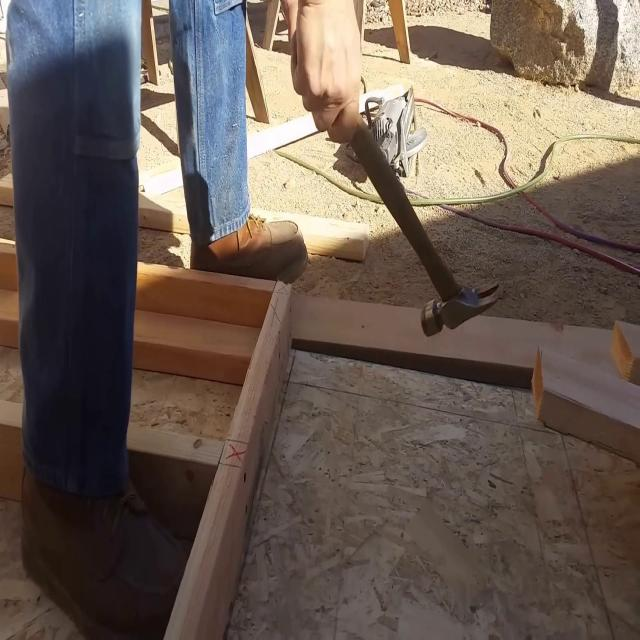hammer: (349, 110, 502, 338)
